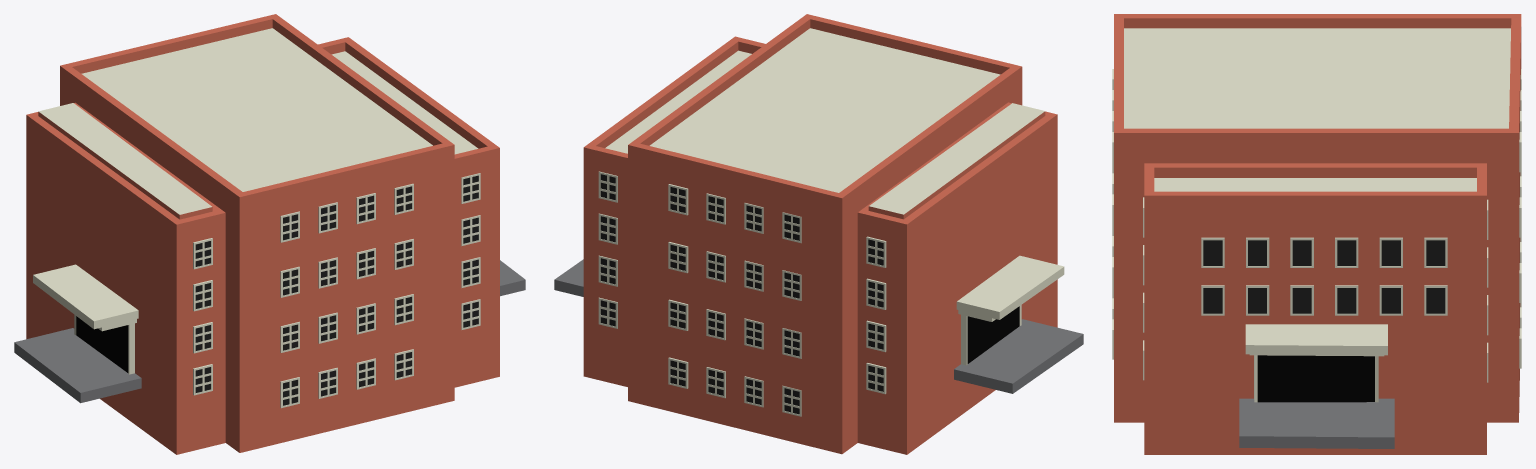
File: Dongsan Hall.fbx
3 views of the same model, side by side, from view 1: azimuth 30°, elevation 25°; view 2: azimuth 150°, elevation 25°; view 3: azimuth 270°, elevation 25° (orthographic). The views are drawn at different scales.
Visible parts, largest first — view 1: Dongsan Hall; view 2: Dongsan Hall; view 3: Dongsan Hall.
Boxes of the visible parts, bbox=[...] form: Dongsan Hall: bbox=[14, 14, 525, 454]; Dongsan Hall: bbox=[554, 14, 1083, 454]; Dongsan Hall: bbox=[1112, 14, 1521, 454].
Size of the model in its own units: 364 by 196 by 251.
